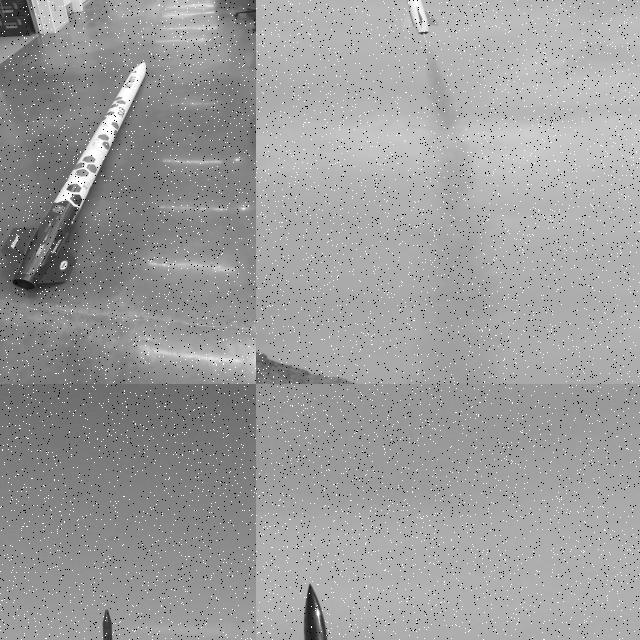Rocket: (0, 61, 147, 291), (292, 583, 363, 640), (383, 0, 439, 36), (91, 609, 119, 640)
